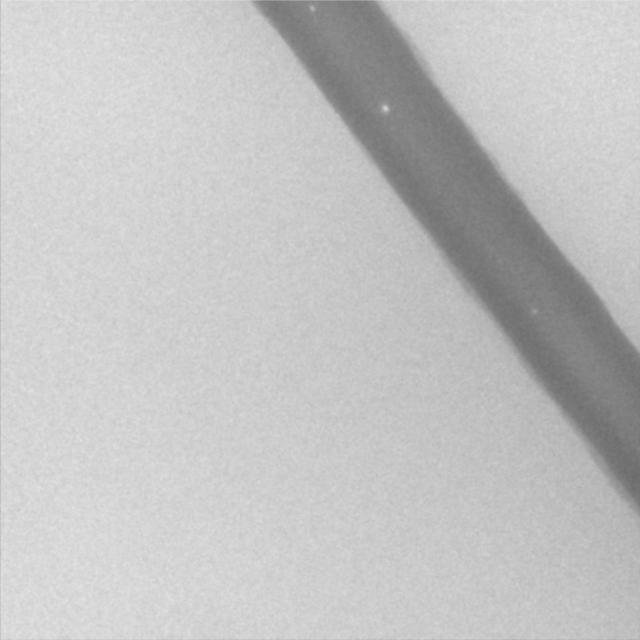air hole: (380, 101, 389, 115), (308, 3, 315, 12)
